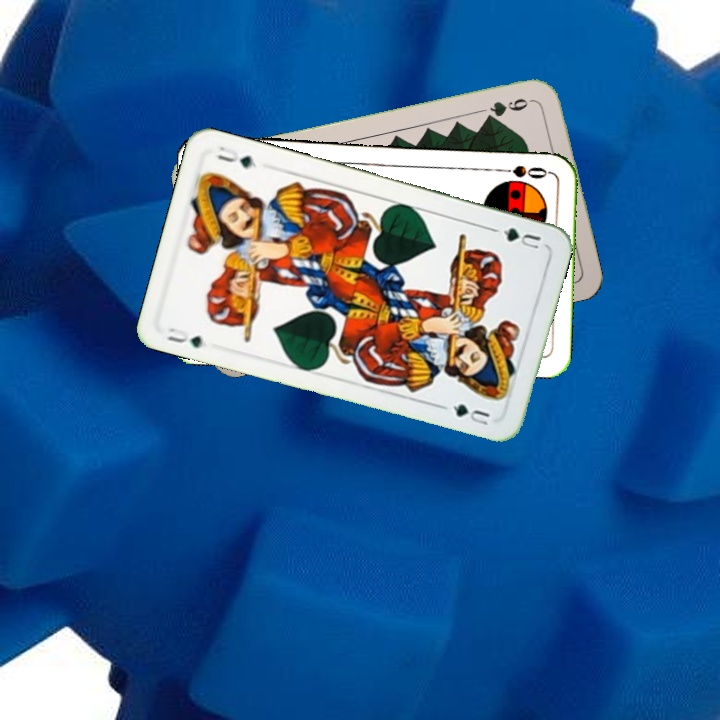G9: (481, 94, 537, 123)
GU: (499, 223, 543, 253), (163, 323, 205, 351)
SO: (492, 161, 552, 182)
